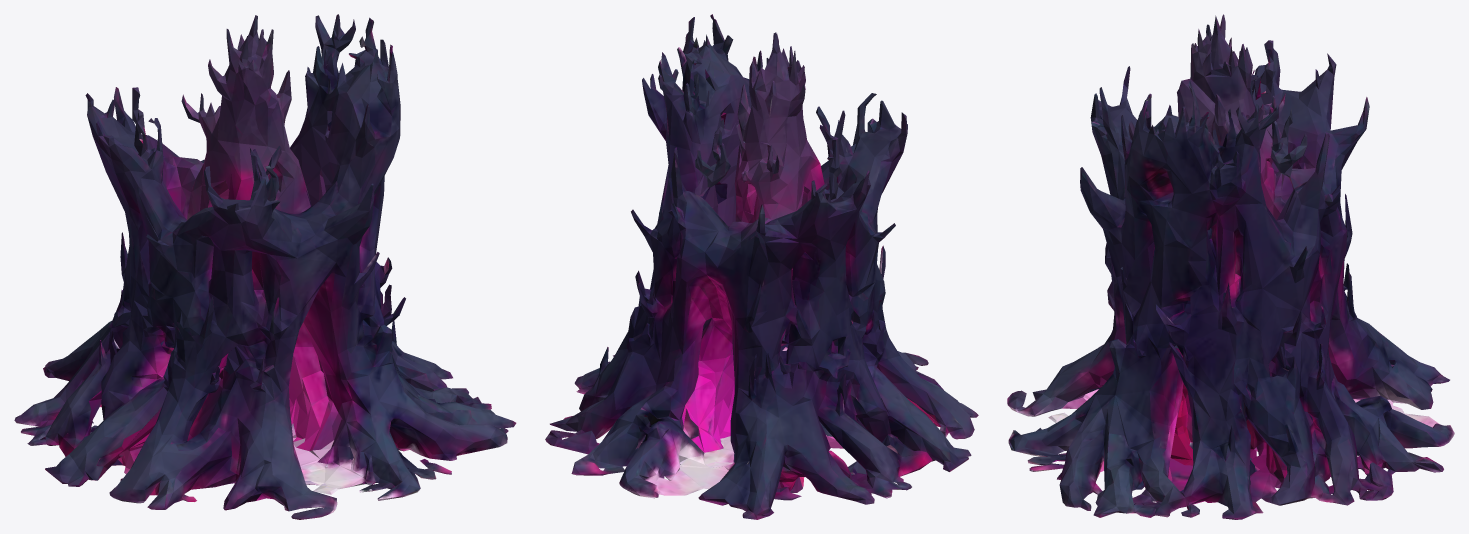
File: root-northwest-generated-2026-04-19T17-13-41-911Z.low.glb
The picture shows the model from 3 angles, left to right: view 1: azimuth 30°, elevation 25°; view 2: azimuth 150°, elevation 25°; view 3: azimuth 270°, elevation 25°; orthographic projection. The views are drawn at different scales.
Parts seen in each view (by area): view 1: temp_mesh.ply; view 2: temp_mesh.ply; view 3: temp_mesh.ply.
Boxes of the visible parts, x1,y1,x2,y2 form: temp_mesh.ply: (14, 14, 516, 519); temp_mesh.ply: (545, 14, 978, 519); temp_mesh.ply: (1007, 14, 1454, 519).
Bounding box in the file's own units: 1.97 × 1.94 × 1.93.
1 material, 1 textured.
